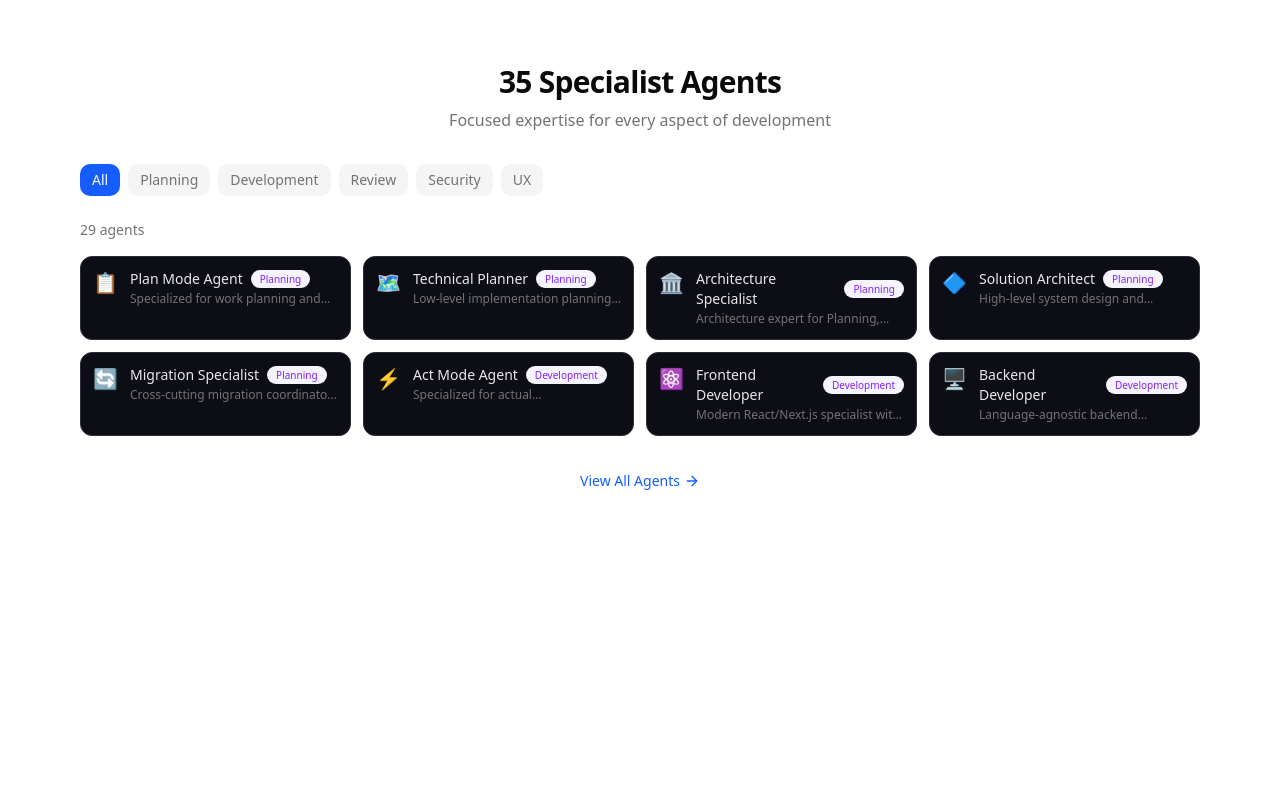
AgentsShowcase › should show all agents when View All is clicked
The image size is (1280, 800).
Step 1. Click the link "View All Agents" → (640, 481), box left=580, top=471, right=700, bottom=491
(page scrolled)
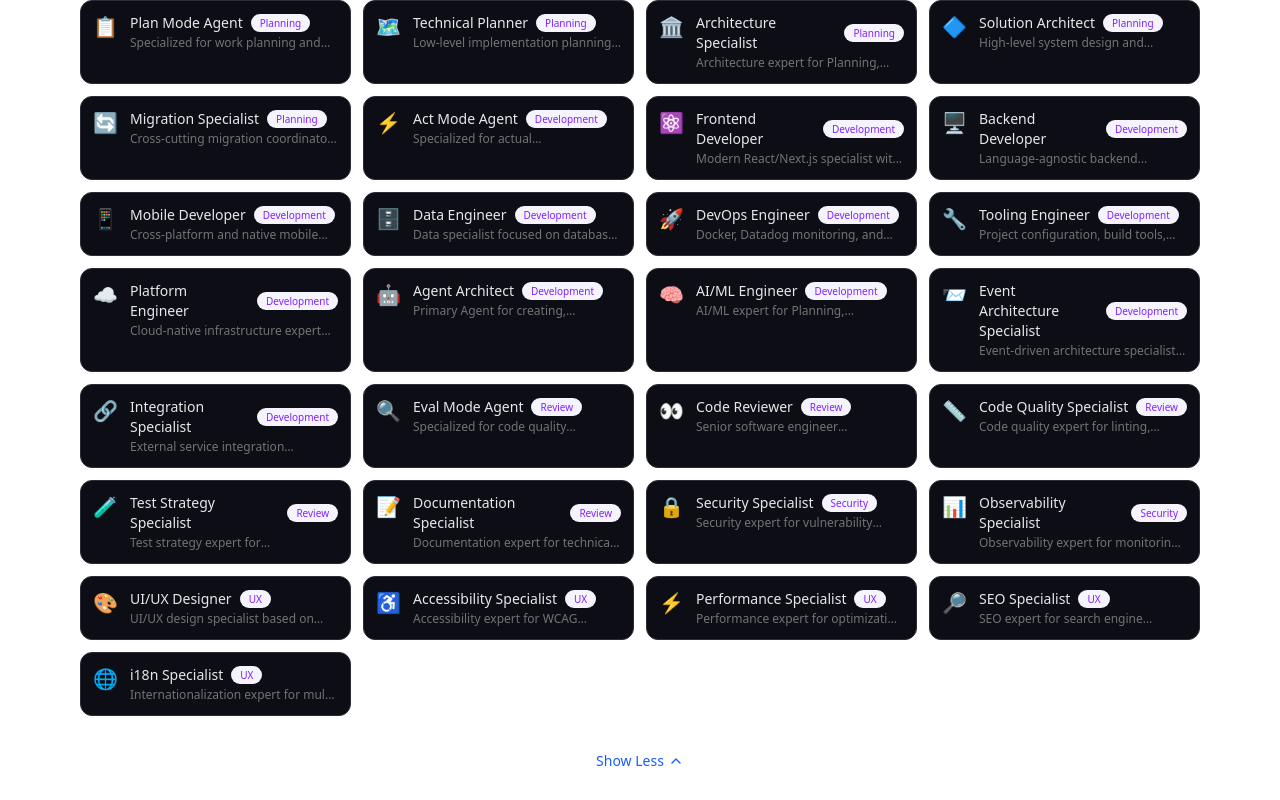
Expected: the link "View All Agents" is gone
Expected: the button "Show Less" is shown, left=596, top=751, right=684, bottom=771
